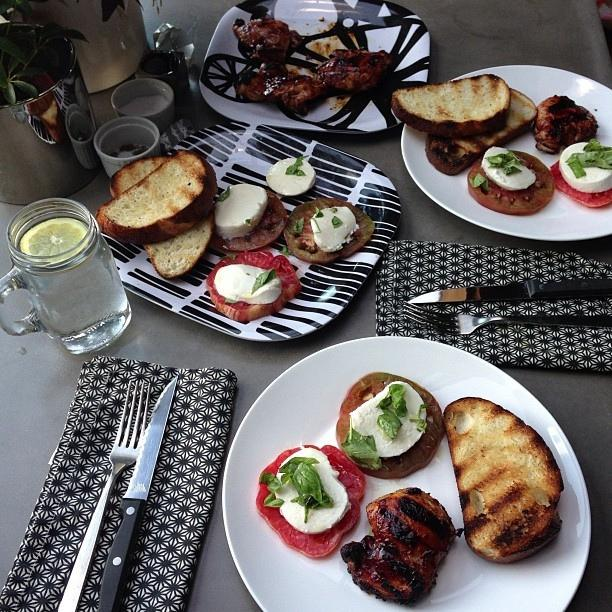tomato: (255, 444, 365, 558), (336, 372, 446, 480), (206, 250, 302, 322), (468, 150, 556, 215), (214, 190, 288, 251), (551, 160, 612, 208)
